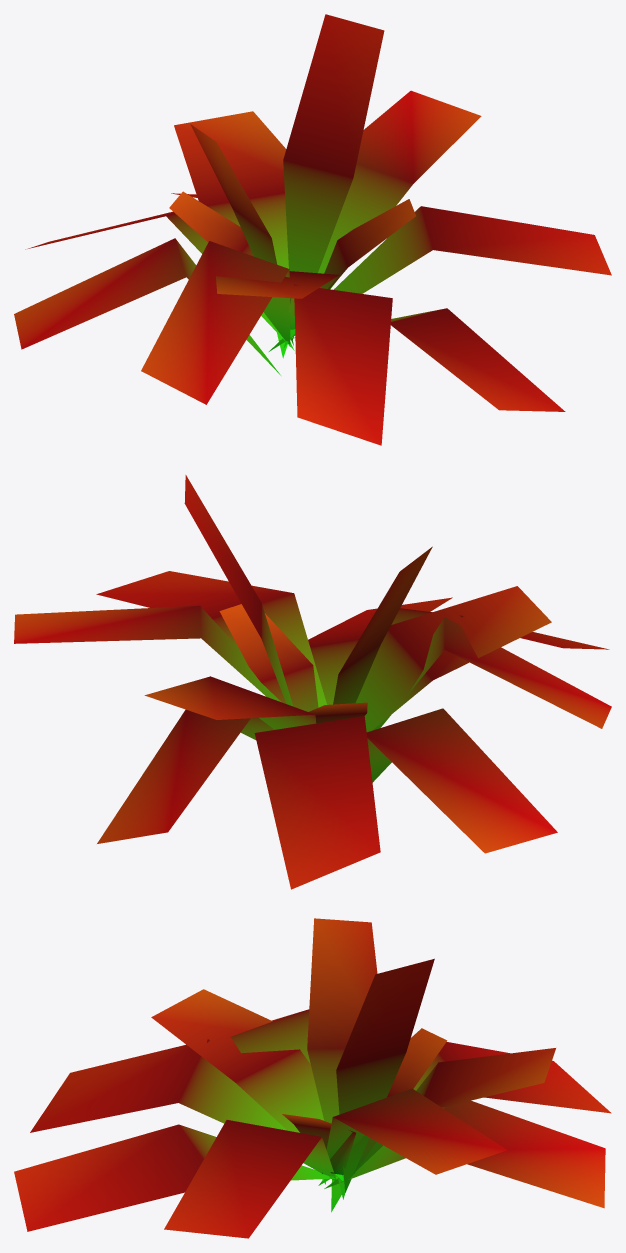
Rendered from Cape Weed_LOD3_Var7_tjmhfcyia.fbx.
3 views of the same model, one above another, from view 1: azimuth 30°, elevation 25°; view 2: azimuth 150°, elevation 25°; view 3: azimuth 270°, elevation 25° (orthographic). The views are drawn at different scales.
Parts seen in each view (by area): view 1: _6fab_Var7_LOD3; view 2: _6fab_Var7_LOD3; view 3: _6fab_Var7_LOD3.
Part boxes in pixels (x1,y1,x2,y2): _6fab_Var7_LOD3: (14,14,611,445); _6fab_Var7_LOD3: (14,475,611,889); _6fab_Var7_LOD3: (14,918,611,1238).
Bounding box in the file's own units: 17.85 × 10.28 × 18.53.
